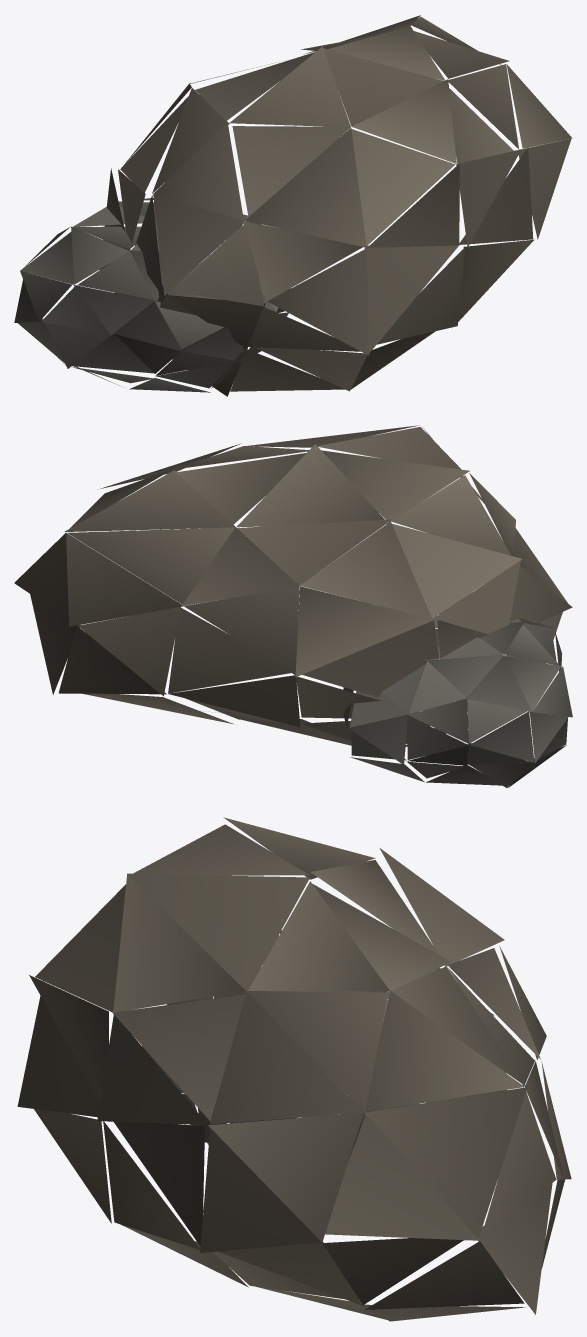
File: mature-lod2.glb
3 renders of one model, top to bottom at view 1: azimuth 30°, elevation 25°; view 2: azimuth 150°, elevation 25°; view 3: azimuth 270°, elevation 25°, orthographic. The views are drawn at different scales.
Parts seen in each view (by area): view 1: weathered-fieldstone; view 2: weathered-fieldstone; view 3: weathered-fieldstone.
Part boxes in pixels (left/top/right/bottom): weathered-fieldstone: left=14, top=15, right=571, bottom=396; weathered-fieldstone: left=14, top=425, right=572, bottom=787; weathered-fieldstone: left=17, top=817, right=571, bottom=1321.
Bounding box in the file's own units: 4.26 × 2.32 × 2.97.
